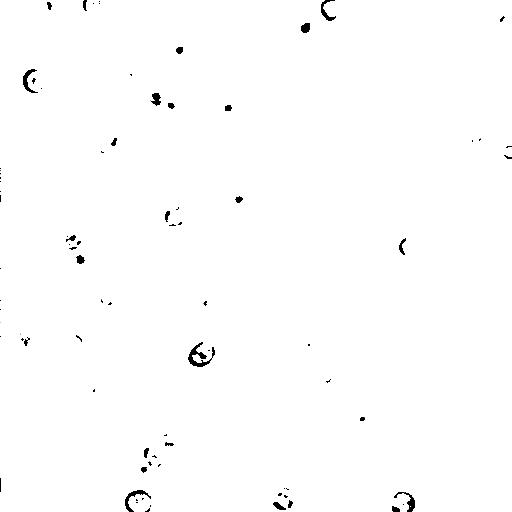micro-algae: (356, 88, 412, 144), (467, 10, 512, 68), (203, 420, 253, 472), (124, 399, 174, 450), (464, 459, 512, 512), (54, 237, 106, 285), (29, 379, 72, 418), (84, 146, 126, 184), (286, 4, 326, 43), (156, 195, 195, 235), (154, 80, 188, 118), (192, 287, 224, 327), (92, 121, 128, 156), (88, 280, 123, 316), (190, 448, 224, 482), (337, 404, 375, 432), (486, 6, 512, 46), (276, 436, 308, 468), (264, 486, 303, 512), (461, 122, 492, 152), (296, 326, 324, 358), (188, 338, 216, 369), (378, 452, 406, 481), (121, 54, 147, 82), (214, 94, 242, 120), (91, 374, 121, 398), (124, 488, 154, 512), (14, 327, 37, 356), (22, 68, 46, 95), (140, 444, 167, 468), (389, 491, 418, 512), (168, 37, 192, 62), (62, 226, 86, 250), (313, 361, 339, 383), (319, 0, 344, 22), (260, 96, 284, 118), (398, 234, 420, 258), (62, 333, 84, 355), (160, 431, 181, 453), (37, 0, 57, 20), (135, 462, 158, 478), (380, 0, 416, 9), (82, 0, 102, 15), (232, 193, 250, 206), (446, 80, 460, 96), (502, 143, 512, 161)
